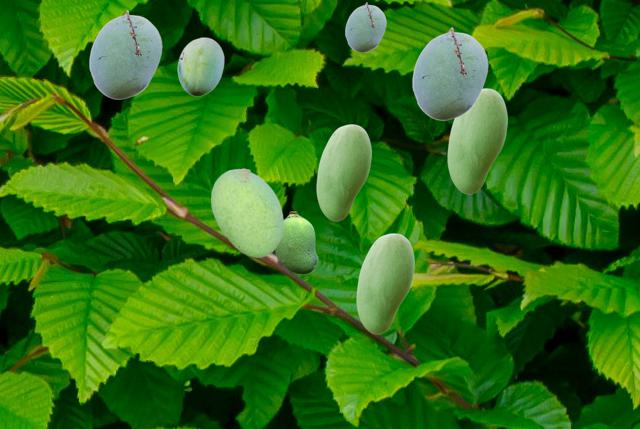green_mango: (412, 27, 487, 119), (89, 10, 161, 98), (211, 168, 282, 256), (447, 88, 506, 193), (356, 233, 413, 333), (316, 124, 370, 220), (177, 37, 223, 95), (274, 211, 317, 273), (345, 2, 385, 51)
